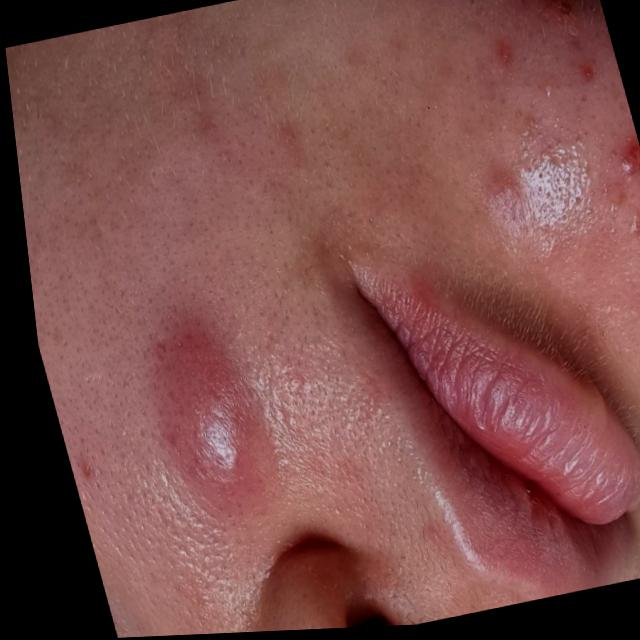nodule: (122, 290, 274, 536)
